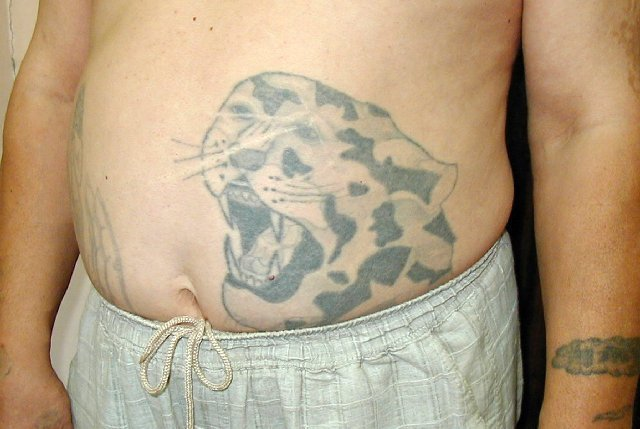tatu5_tigr: (166, 70, 464, 327)
